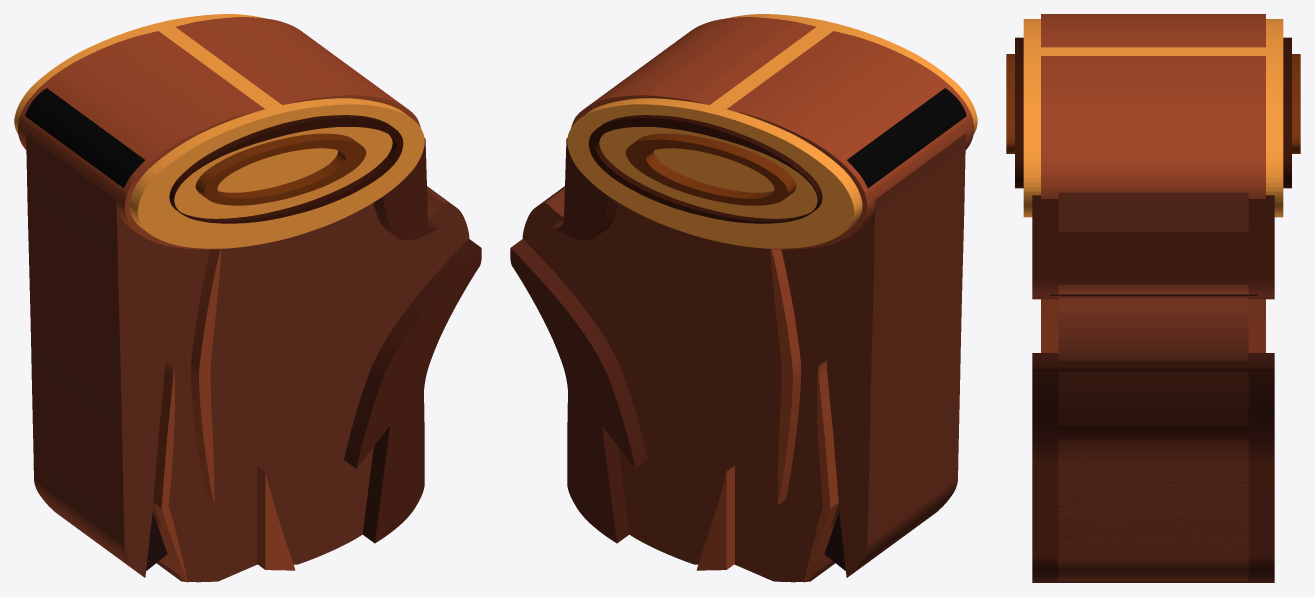
Rendered from U+1FAB5.obj.
3 renders of one model, left to right at view 1: azimuth 30°, elevation 25°; view 2: azimuth 150°, elevation 25°; view 3: azimuth 270°, elevation 25°, orthographic. The views are drawn at different scales.
Visible parts, largest first — view 1: U+1FAB5_layer01_obj00, U+1FAB5_layer03_obj01, U+1FAB5_layer05_obj00, U+1FAB5_layer04_obj00, U+1FAB5_layer07_obj00, U+1FAB5_layer06_obj00, U+1FAB5_layer02_obj02, U+1FAB5_layer03_obj03, U+1FAB5_layer03_obj00, U+1FAB5_layer04_obj01, U+1FAB5_layer03_obj02, U+1FAB5_layer00_obj00; view 2: U+1FAB5_layer01_obj00, U+1FAB5_layer03_obj01, U+1FAB5_layer05_obj00, U+1FAB5_layer04_obj00, U+1FAB5_layer07_obj00, U+1FAB5_layer06_obj00, U+1FAB5_layer02_obj02, U+1FAB5_layer03_obj03, U+1FAB5_layer03_obj00, U+1FAB5_layer04_obj01, U+1FAB5_layer03_obj02, U+1FAB5_layer00_obj00; view 3: U+1FAB5_layer01_obj00, U+1FAB5_layer03_obj01, U+1FAB5_layer04_obj00, U+1FAB5_layer04_obj01, U+1FAB5_layer05_obj00, U+1FAB5_layer06_obj00, U+1FAB5_layer03_obj03, U+1FAB5_layer07_obj00, U+1FAB5_layer02_obj00.
Boxes of the visible parts, x1,y1,x2,y2 form: U+1FAB5_layer01_obj00: (26, 133, 469, 582); U+1FAB5_layer03_obj01: (18, 17, 420, 249); U+1FAB5_layer05_obj00: (14, 14, 424, 248); U+1FAB5_layer04_obj00: (344, 239, 481, 543); U+1FAB5_layer07_obj00: (195, 133, 366, 205); U+1FAB5_layer06_obj00: (169, 115, 403, 223); U+1FAB5_layer02_obj02: (25, 88, 144, 188); U+1FAB5_layer03_obj03: (190, 249, 221, 504); U+1FAB5_layer03_obj00: (153, 360, 187, 582); U+1FAB5_layer04_obj01: (373, 138, 439, 240); U+1FAB5_layer03_obj02: (257, 465, 295, 570); U+1FAB5_layer00_obj00: (146, 512, 167, 570); U+1FAB5_layer01_obj00: (522, 133, 965, 582); U+1FAB5_layer03_obj01: (571, 17, 973, 249); U+1FAB5_layer05_obj00: (567, 14, 977, 248); U+1FAB5_layer04_obj00: (510, 239, 647, 543); U+1FAB5_layer07_obj00: (625, 133, 796, 205); U+1FAB5_layer06_obj00: (588, 115, 822, 223); U+1FAB5_layer02_obj02: (847, 88, 966, 188); U+1FAB5_layer03_obj03: (770, 249, 801, 504); U+1FAB5_layer03_obj00: (804, 360, 838, 582); U+1FAB5_layer04_obj01: (552, 138, 618, 240); U+1FAB5_layer03_obj02: (696, 465, 734, 570); U+1FAB5_layer00_obj00: (824, 512, 845, 570); U+1FAB5_layer01_obj00: (1058, 192, 1248, 580); U+1FAB5_layer03_obj01: (1041, 14, 1265, 198); U+1FAB5_layer04_obj00: (1032, 353, 1274, 582); U+1FAB5_layer04_obj01: (1032, 195, 1274, 299); U+1FAB5_layer05_obj00: (1023, 19, 1283, 217); U+1FAB5_layer06_obj00: (1015, 37, 1291, 188); U+1FAB5_layer03_obj03: (1041, 299, 1265, 352); U+1FAB5_layer07_obj00: (1006, 54, 1300, 153); U+1FAB5_layer02_obj00: (1049, 294, 1257, 295).
Size of the model in its own units: 0.2478 by 0.316 by 0.17.
